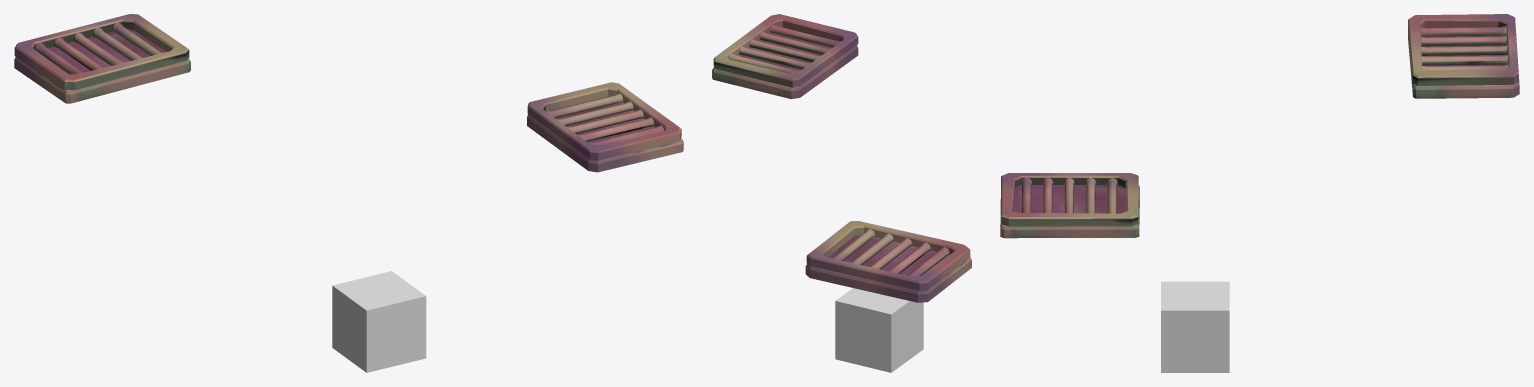
Rendered from home-floor003.fbx.
The picture shows the model from 3 angles, left to right: view 1: azimuth 30°, elevation 25°; view 2: azimuth 150°, elevation 25°; view 3: azimuth 270°, elevation 25°; orthographic projection. The views are drawn at different scales.
Parts seen in each view (by area): view 1: Cylinder.001, Cylinder.003, home-floor003; view 2: Cylinder.001, Cylinder.003, home-floor003; view 3: Cylinder.001, Cylinder.003, home-floor003.
Boxes of the visible parts, x1=… form: Cylinder.001: x1=14, y1=14, x2=190, y2=103; Cylinder.003: x1=527, y1=82, x2=683, y2=172; home-floor003: x1=332, y1=271, x2=426, y2=372; Cylinder.001: x1=805, y1=221, x2=971, y2=302; Cylinder.003: x1=712, y1=14, x2=858, y2=99; home-floor003: x1=835, y1=288, x2=923, y2=372; Cylinder.001: x1=1408, y1=14, x2=1519, y2=98; Cylinder.003: x1=1000, y1=173, x2=1139, y2=238; home-floor003: x1=1161, y1=281, x2=1229, y2=372.
Bounding box in the file's own units: 784 × 437 × 844.
